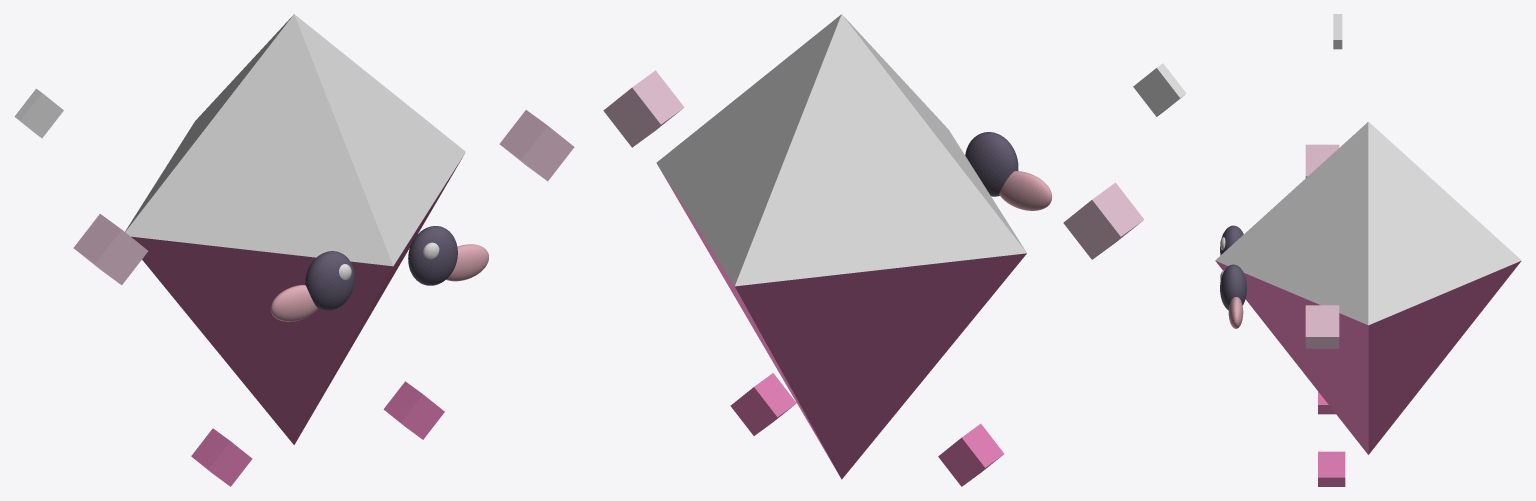
Rendered from kiratsubu_peach.glb.
3 renders of one model, left to right at view 1: azimuth 30°, elevation 25°; view 2: azimuth 150°, elevation 25°; view 3: azimuth 270°, elevation 25°, orthographic. The views are drawn at different scales.
Visible parts, largest first — view 1: kiratsubu_0, kiratsubu_1, kiratsubu_2, kiratsubu_3, kiratsubu_10, kiratsubu_7, kiratsubu_5, kiratsubu_4, kiratsubu_6, kiratsubu_9, kiratsubu_12; view 2: kiratsubu_0, kiratsubu_1, kiratsubu_2, kiratsubu_3, kiratsubu_7, kiratsubu_4, kiratsubu_5, kiratsubu_9, kiratsubu_6; view 3: kiratsubu_0, kiratsubu_1, kiratsubu_3, kiratsubu_5, kiratsubu_10, kiratsubu_2, kiratsubu_12, kiratsubu_6, kiratsubu_7.
Part boxes in pixels (x1,y1,x2,y2): kiratsubu_0: (125, 14, 465, 266); kiratsubu_1: (131, 155, 463, 444); kiratsubu_2: (73, 214, 148, 285); kiratsubu_3: (499, 110, 574, 181); kiratsubu_10: (408, 226, 457, 285); kiratsubu_7: (305, 251, 354, 310); kiratsubu_5: (383, 381, 444, 439); kiratsubu_4: (191, 428, 252, 486); kiratsubu_6: (14, 88, 63, 138); kiratsubu_9: (270, 285, 317, 321); kiratsubu_12: (446, 244, 488, 281); kiratsubu_0: (656, 14, 1026, 286); kiratsubu_1: (657, 164, 1026, 479); kiratsubu_2: (1063, 182, 1144, 259); kiratsubu_3: (603, 70, 684, 147); kiratsubu_7: (965, 132, 1018, 196); kiratsubu_4: (938, 423, 1004, 486); kiratsubu_5: (730, 373, 796, 435); kiratsubu_9: (999, 171, 1051, 210); kiratsubu_6: (1133, 63, 1186, 116); kiratsubu_0: (1215, 122, 1521, 325); kiratsubu_1: (1215, 261, 1521, 454); kiratsubu_3: (1305, 305, 1339, 348); kiratsubu_5: (1318, 451, 1345, 486); kiratsubu_10: (1220, 264, 1246, 310); kiratsubu_2: (1305, 144, 1339, 177); kiratsubu_12: (1228, 297, 1243, 328); kiratsubu_6: (1333, 14, 1342, 49); kiratsubu_7: (1220, 225, 1243, 255).
Bounding box in the file's own units: 1.56 × 1.21 × 1.
